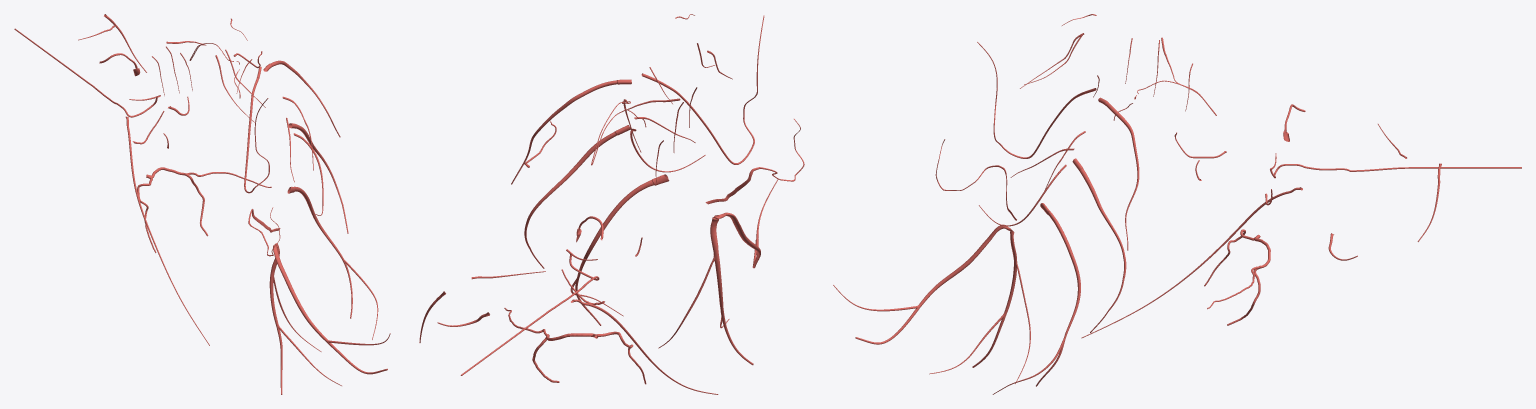
3 renders of one model, left to right at view 1: azimuth 30°, elevation 25°; view 2: azimuth 150°, elevation 25°; view 3: azimuth 270°, elevation 25°, orthographic. The views are drawn at different scales.
Parts seen in each view (by area): view 1: PCA parieto-occipital right, Medial posterior choroidal right, Posterior meningeal VA right, PCA calcarine right, PCA posterior inferior temporal right, PCA middle inferior temporal right, Posterior spinal right, PCA anterior inferior temporal right; view 2: PCA posterior inferior temporal right, PCA middle inferior temporal right, PCA calcarine right, Medial posterior choroidal right, PCA anterior inferior temporal right, Posterior spinal right, PCA splenial right, Posterior meningeal VA right, PCA parieto-occipital right, PICA hemispheric right, Pontine circumferential right; view 3: PCA parieto-occipital right, PCA posterior inferior temporal right, PCA middle inferior temporal right.
Part boxes in pixels (bbox=[...]): PCA parieto-occipital right: bbox=[273, 243, 387, 374]; Medial posterior choroidal right: bbox=[244, 66, 269, 193]; Posterior meningeal VA right: bbox=[125, 116, 209, 345]; PCA calcarine right: bbox=[269, 244, 282, 394]; PCA posterior inferior temporal right: bbox=[287, 186, 352, 318]; PCA middle inferior temporal right: bbox=[288, 123, 348, 233]; Posterior spinal right: bbox=[14, 28, 157, 117]; PCA anterior inferior temporal right: bbox=[263, 60, 340, 137]; PCA posterior inferior temporal right: bbox=[575, 174, 669, 325]; PCA middle inferior temporal right: bbox=[524, 125, 631, 268]; PCA calcarine right: bbox=[710, 217, 753, 365]; Medial posterior choroidal right: bbox=[641, 15, 764, 164]; PCA anterior inferior temporal right: bbox=[511, 79, 631, 184]; Posterior spinal right: bbox=[460, 254, 599, 375]; PCA splenial right: bbox=[705, 119, 804, 204]; Posterior meningeal VA right: bbox=[571, 299, 718, 394]; PCA parieto-occipital right: bbox=[714, 212, 760, 268]; PICA hemispheric right: bbox=[532, 333, 597, 382]; Pontine circumferential right: bbox=[591, 98, 680, 165]; PCA parieto-occipital right: bbox=[855, 224, 1012, 344]; PCA posterior inferior temporal right: bbox=[1036, 203, 1080, 386]; PCA middle inferior temporal right: bbox=[1072, 158, 1126, 332].
Size of the model in its own units: 49.55 by 98.38 by 172.
